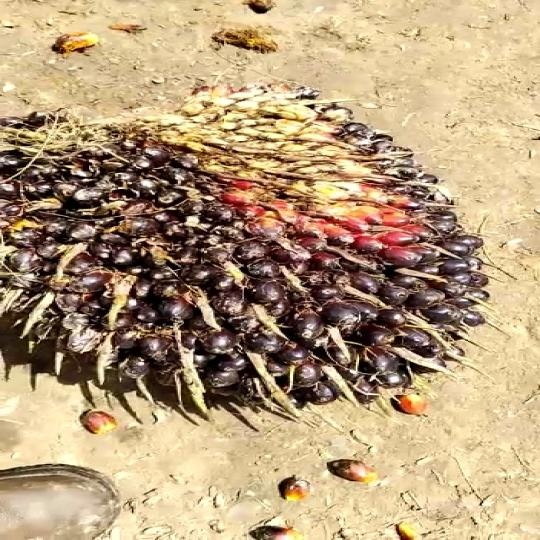mentah: (0, 54, 506, 411)
